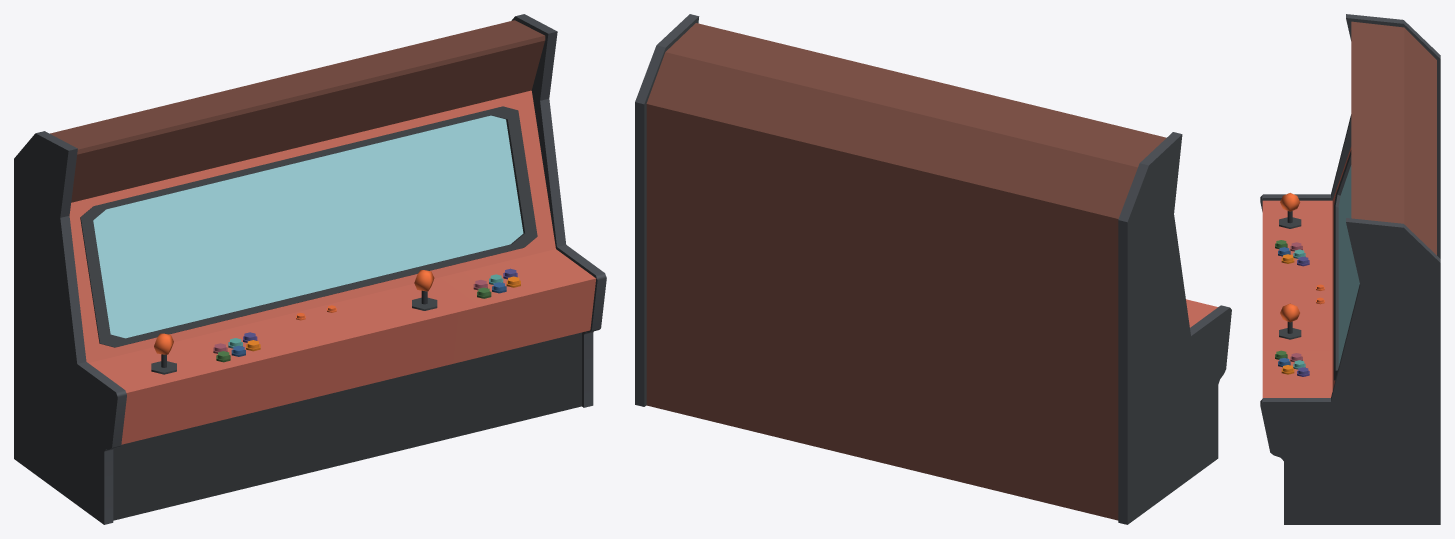
The model's file is SM_GameArea_RecreationalMachines_10.fbx.
3 views of the same model, side by side, from view 1: azimuth 30°, elevation 25°; view 2: azimuth 150°, elevation 25°; view 3: azimuth 270°, elevation 25° (orthographic). The views are drawn at different scales.
Parts seen in each view (by area): view 1: SM_GameArea_RecreationalMachines_10; view 2: SM_GameArea_RecreationalMachines_10; view 3: SM_GameArea_RecreationalMachines_10.
Boxes of the visible parts, x1,y1,x2,y2 form: SM_GameArea_RecreationalMachines_10: (14,14,606,524); SM_GameArea_RecreationalMachines_10: (635,14,1231,524); SM_GameArea_RecreationalMachines_10: (1260,14,1440,524).
Bounding box in the file's own units: 9.43 × 6.41 × 3.46.
Materials: 2 (1 with a texture image).
